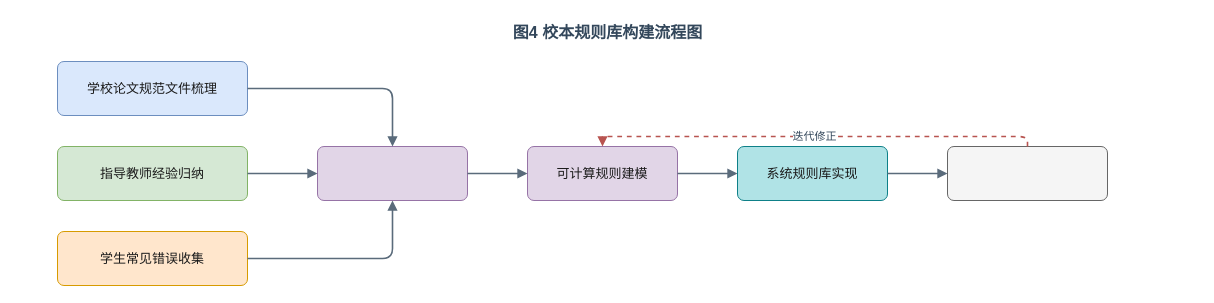
Image size: 1214x303. Some labels were removed from this diagram. Each missing label, with the centre of its shape:
"应用反馈修正" belongs at point 1027,173.
"规则条目拆解" belongs at point 392,173.
